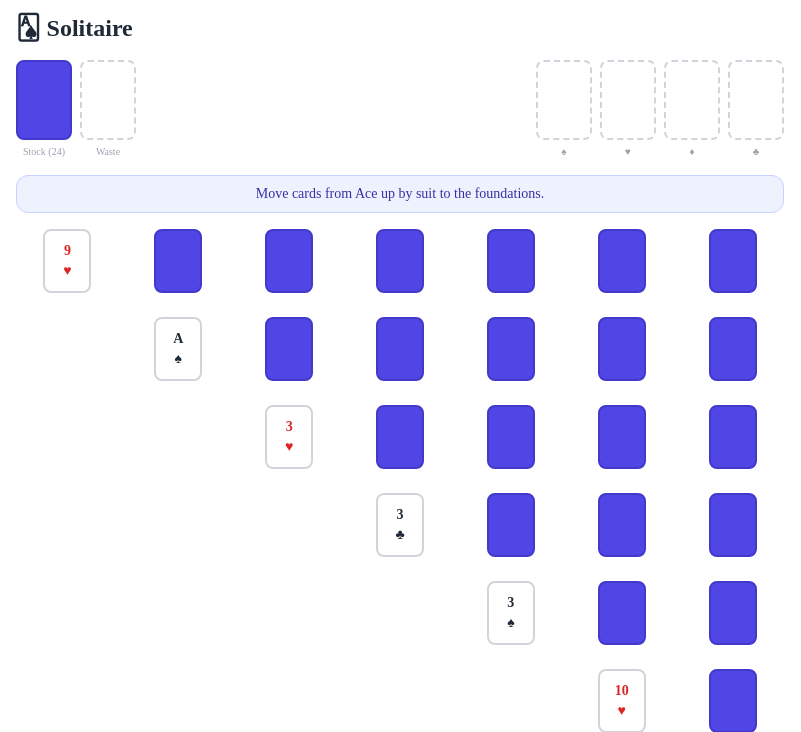
Test: SolitaireGame › draws a card from the stock into the waste pile
The width and height of the screenshot is (801, 732).
Click the element showing "Stock (24)" at (44, 110), box 16,60 -> 72,159
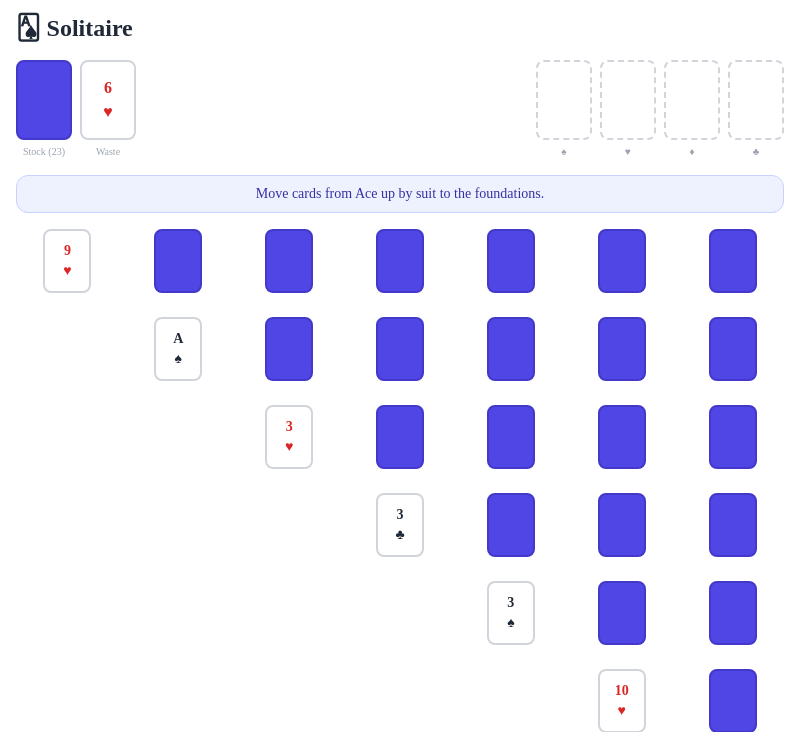
Expected: the text "Stock (23)" is shown, 23,146 -> 65,157
